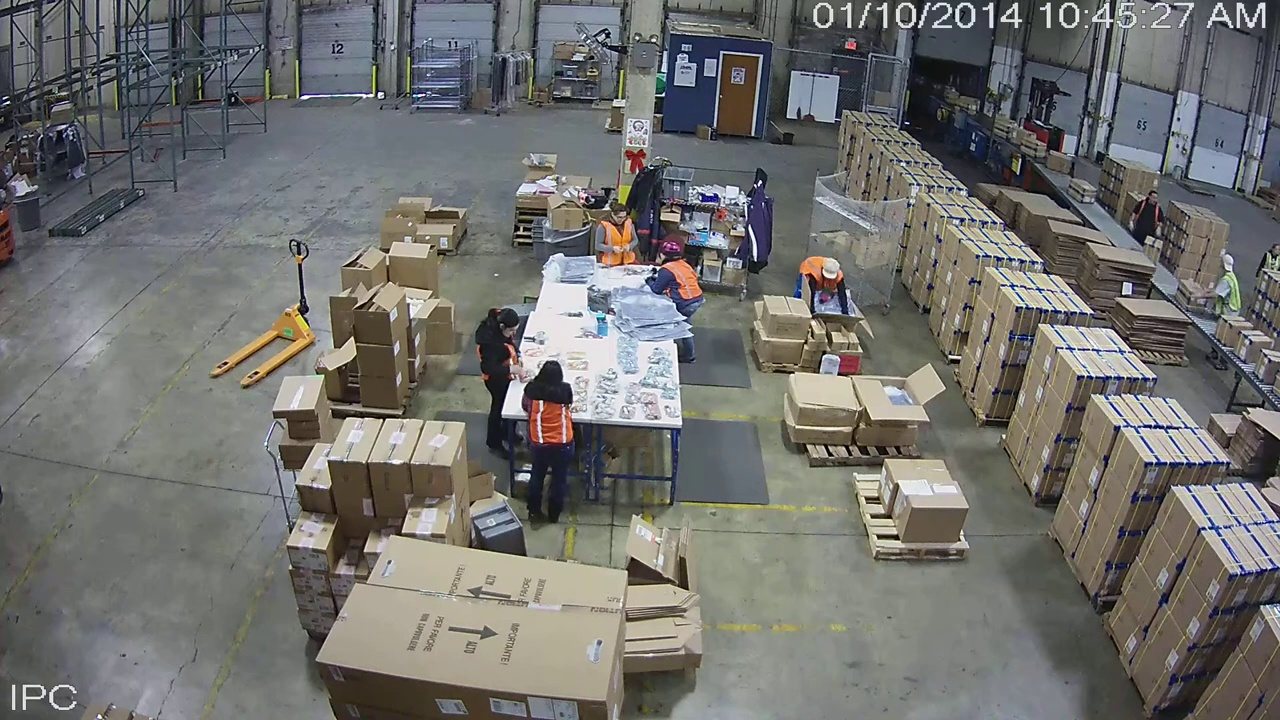machine: (919, 31, 1280, 445), (802, 252, 844, 310)
produit: (1049, 138, 1082, 177), (1175, 270, 1204, 313), (990, 107, 1019, 144), (1064, 178, 1100, 207), (1217, 313, 1245, 350), (1245, 323, 1267, 363), (1024, 124, 1047, 159), (936, 79, 961, 111), (1264, 336, 1280, 384), (961, 92, 981, 123)
